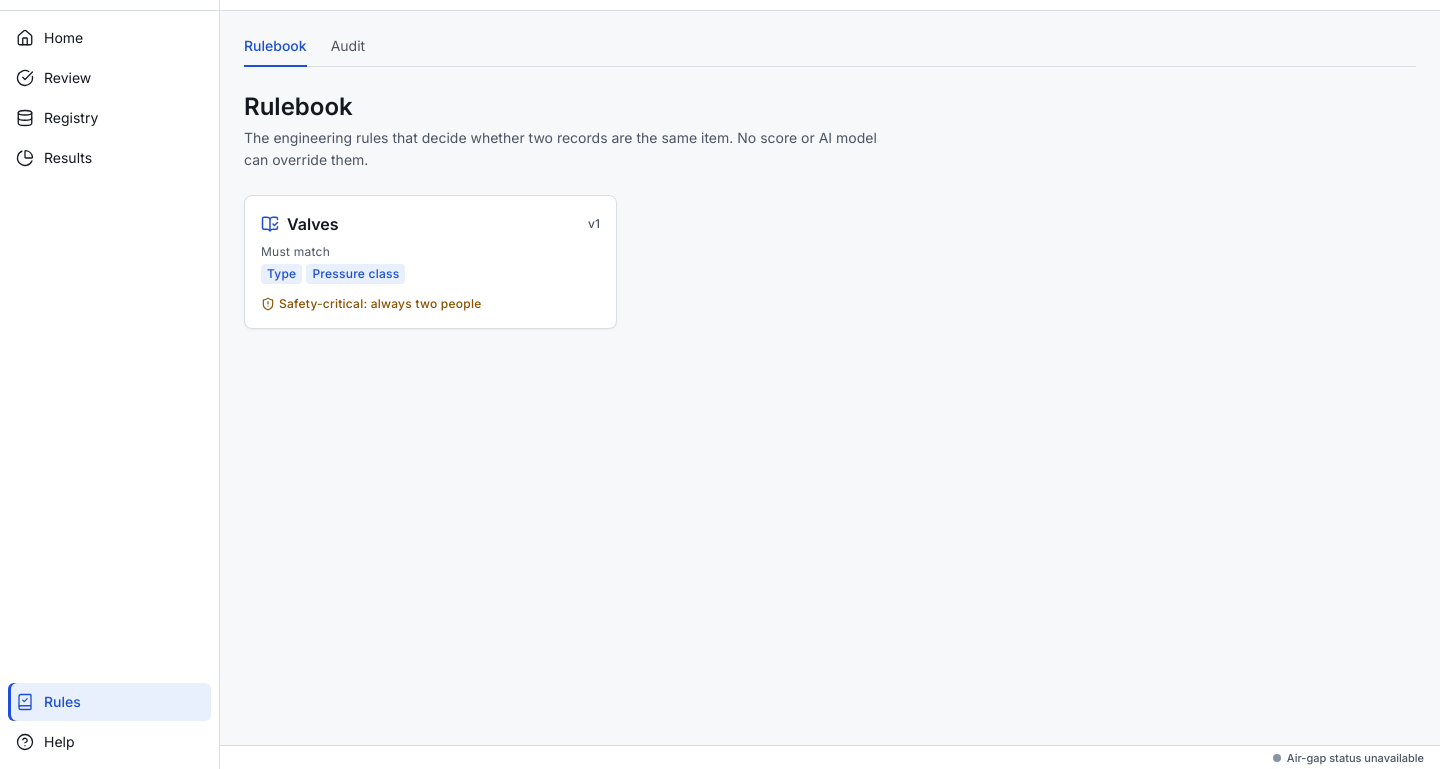
Scenario: S10 rulebook › lists categories with what must match and opens a template
The width and height of the screenshot is (1440, 769).
Expected: the text "Safety-critical: always two people" is shown, [261,296,482,311]
Click the link "Valves": {"x": 313, "y": 224} [244,195,617,329]
(page scrolled)
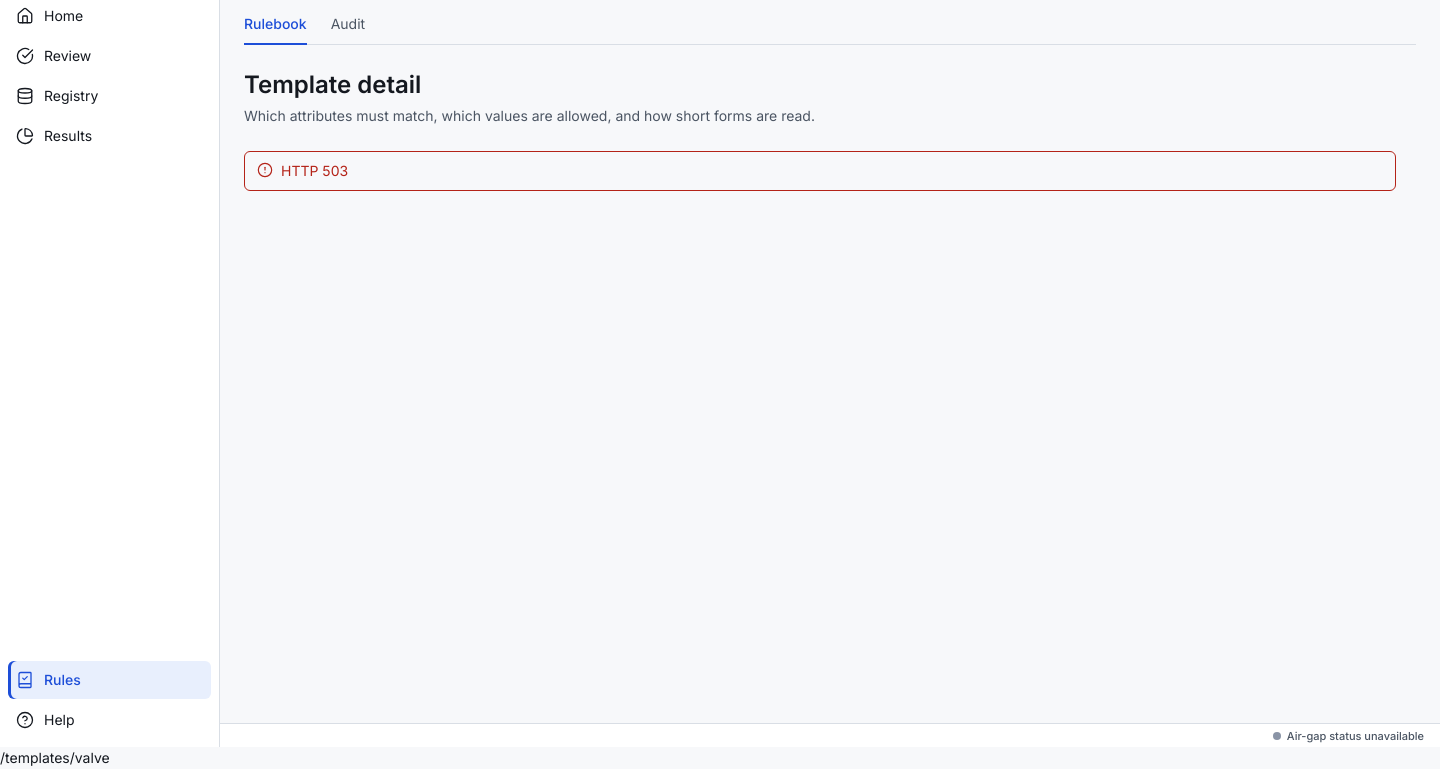
Expected: the text with test id "location" reads "/templates/valve", [0,749,110,766]
